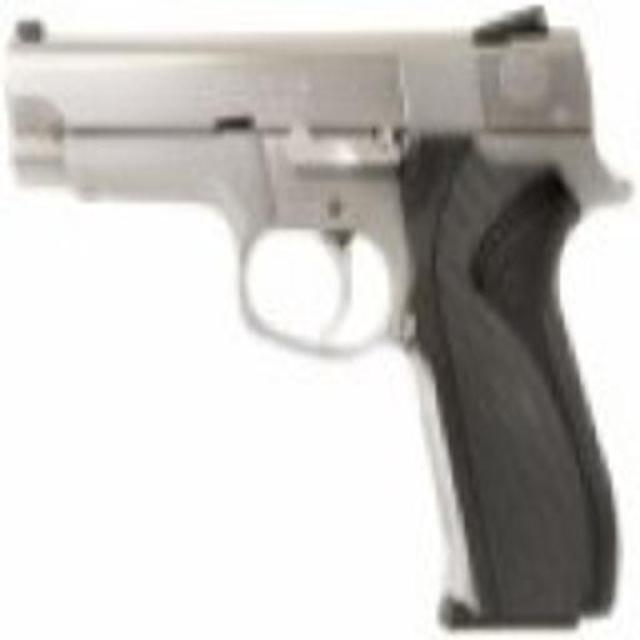pistol: (15, 10, 615, 634)
